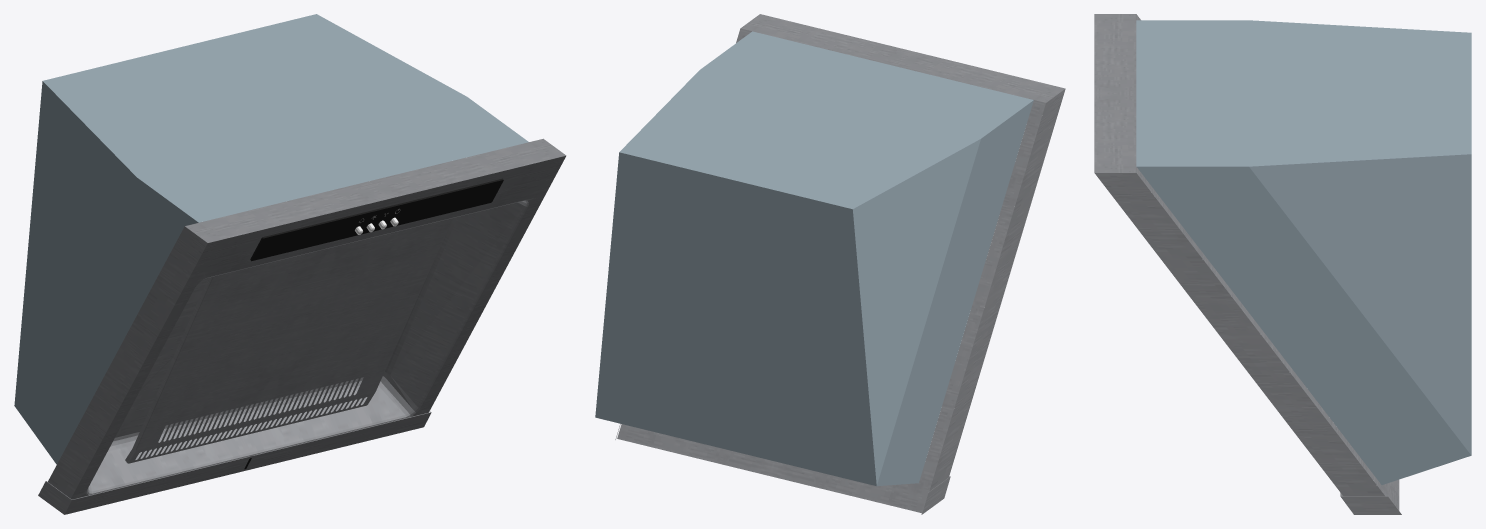
The model's file is sh-bs0-range-hood.glb.
The picture shows the model from 3 angles, left to right: view 1: azimuth 30°, elevation 25°; view 2: azimuth 150°, elevation 25°; view 3: azimuth 270°, elevation 25°; orthographic projection. The views are drawn at different scales.
Parts seen in each view (by area): view 1: 005_Plane.004, 002_Plane.000, 004_Plane.001; view 2: 002_Plane.000, 005_Plane.004; view 3: 002_Plane.000, 005_Plane.004.
Boxes of the visible parts, <box> form: 005_Plane.004: <box>38,138,566,514</box>; 002_Plane.000: <box>14,14,528,464</box>; 004_Plane.001: <box>250,178,503,261</box>; 002_Plane.000: <box>595,31,1033,486</box>; 005_Plane.004: <box>615,14,1065,514</box>; 002_Plane.000: <box>1136,20,1471,484</box>; 005_Plane.004: <box>1094,14,1401,514</box>.
Bounding box in the file's own units: 1 × 1 × 1.
6 materials, 1 textured.
